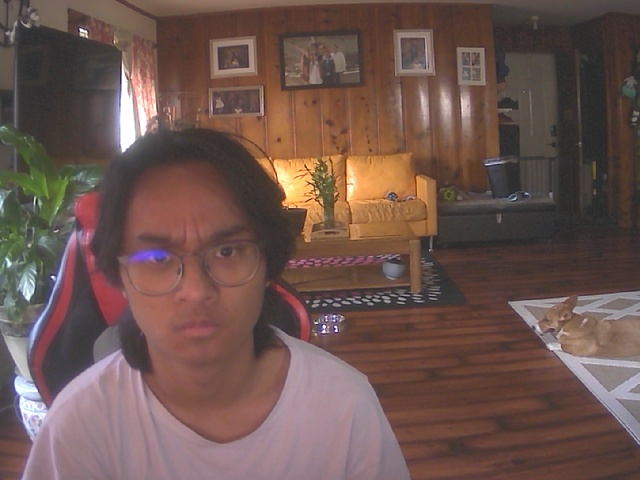anger: (117, 144, 283, 370)
